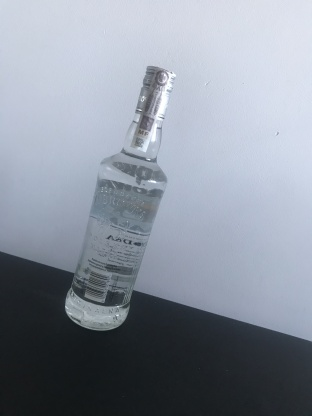nakretka: (133, 62, 177, 124)
